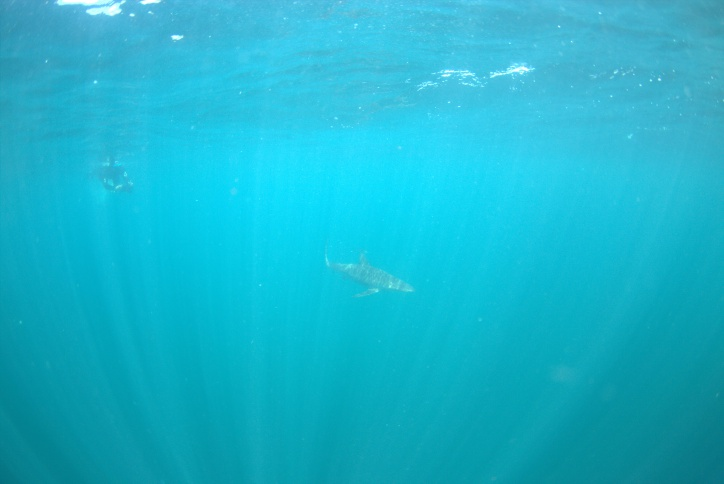Sedoso: (303, 228, 430, 304)
